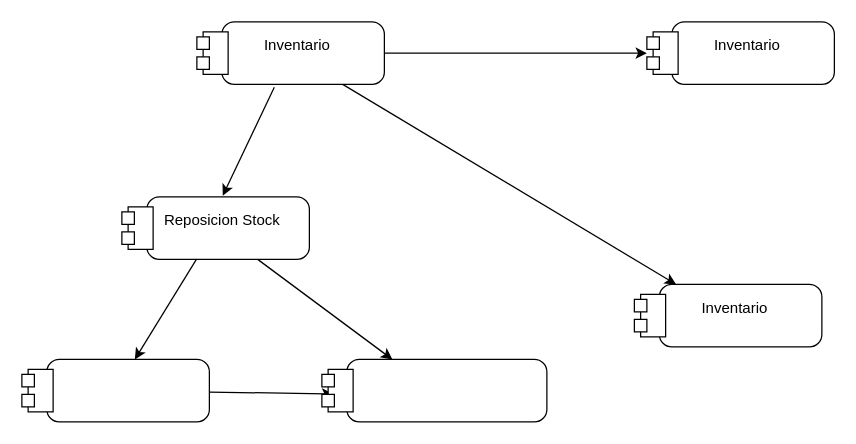
Image size: 856x444. Some labels were removed from this diagram. The centre of each missing label's shape, as x and y in pixels:
"Solicitud Resposicion" belongs at pixel 434 390.
"Stock Fisico" belongs at pixel 115 390.
